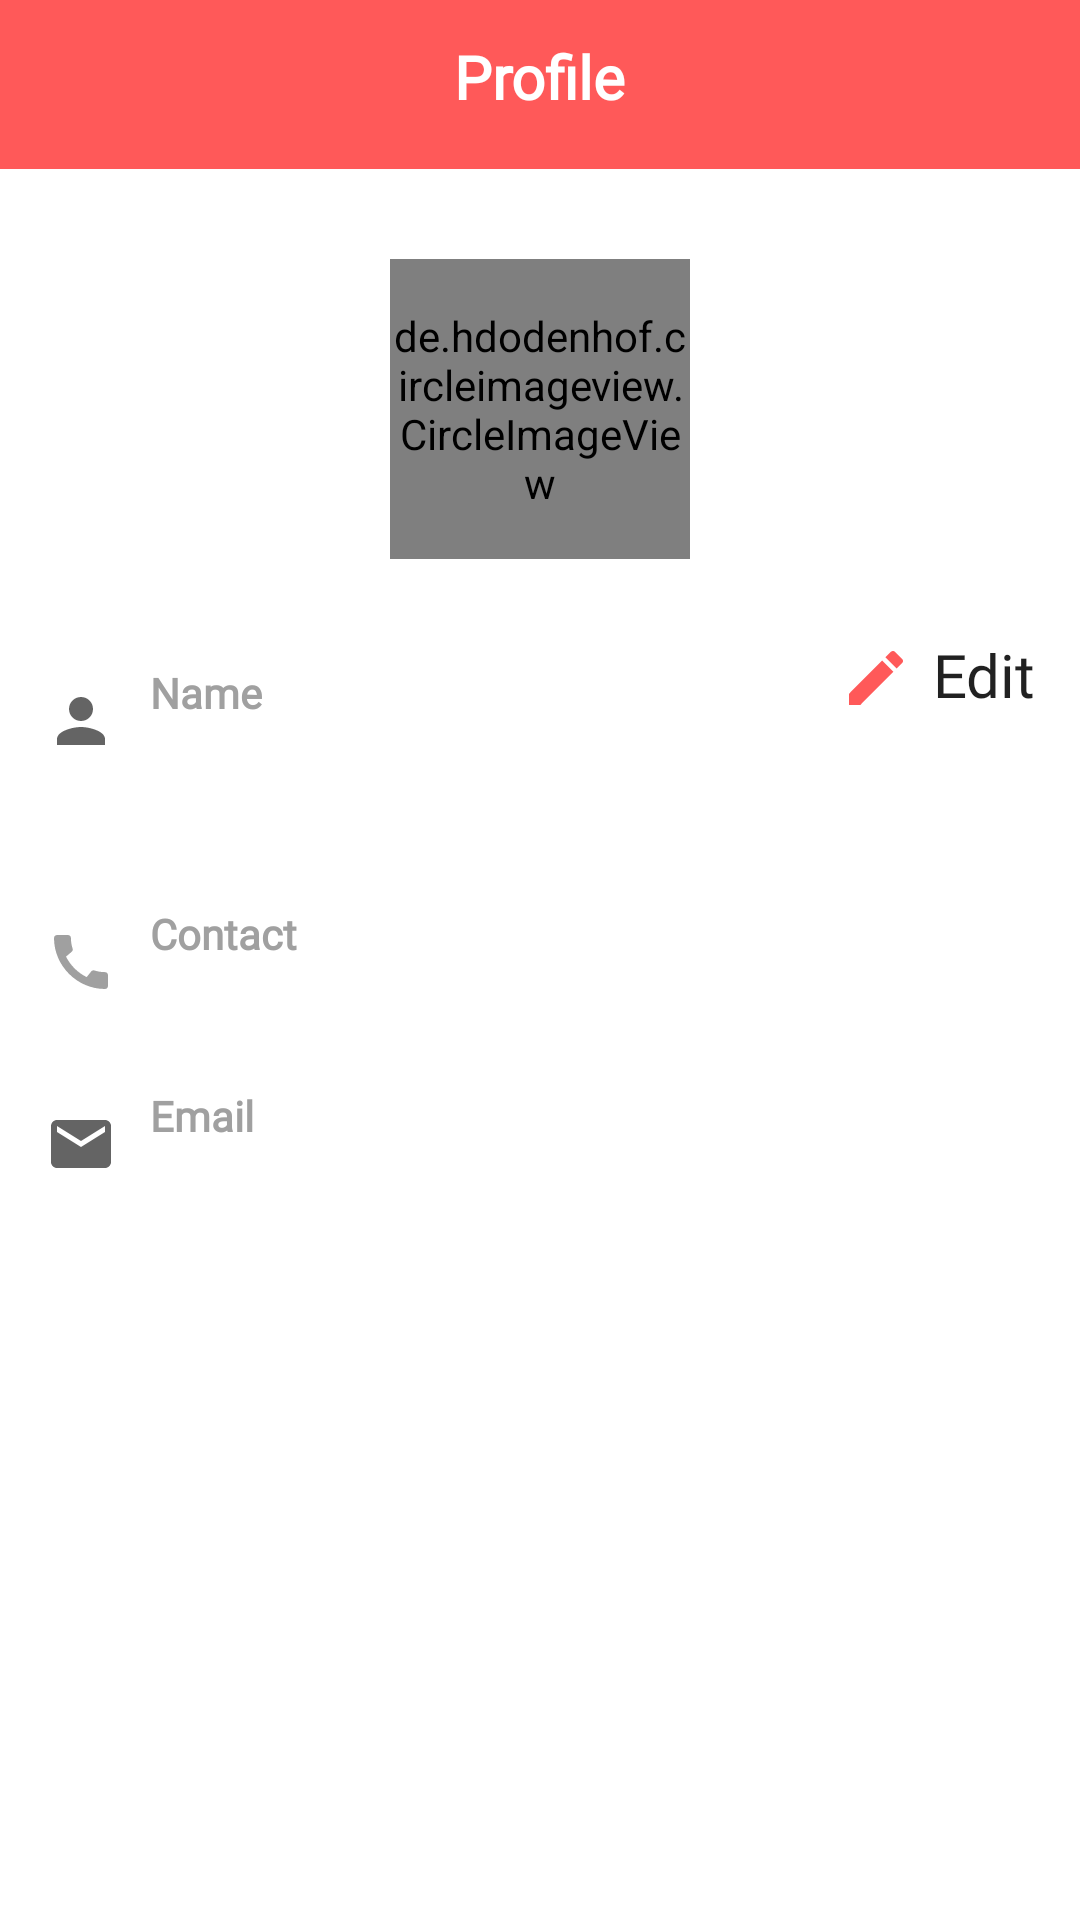

Screen size 1080px×1920px. Icon name, then its center in pixels as (x=x, y=y):
call: (x=81, y=962)
person: (x=81, y=721)
